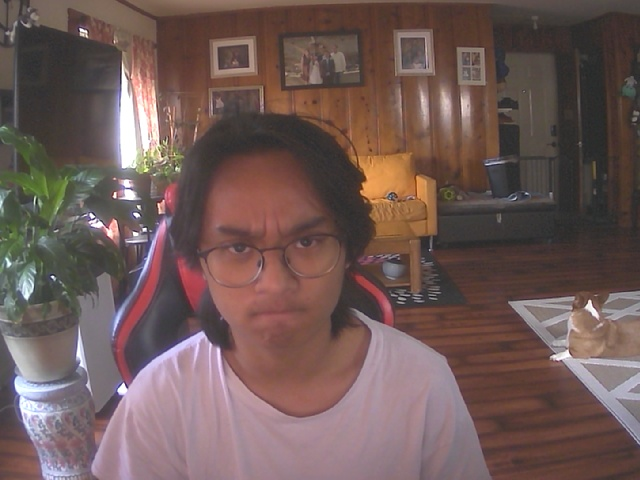anger: (182, 121, 360, 348)
